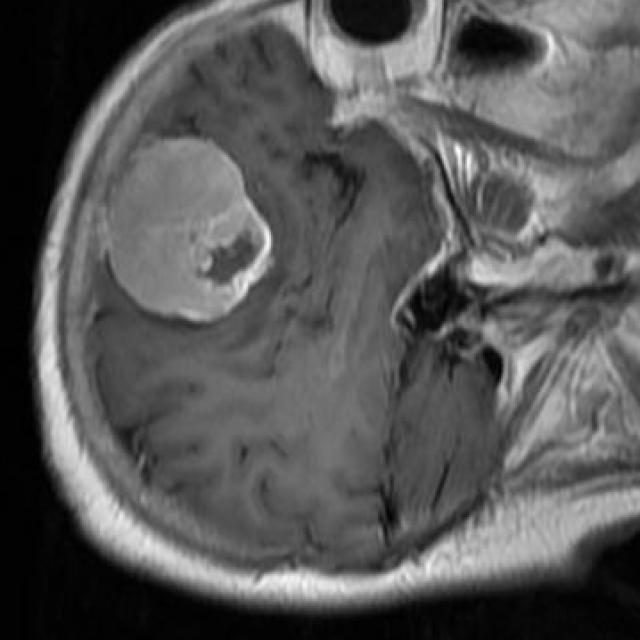meningioma: (109, 137, 273, 324)
